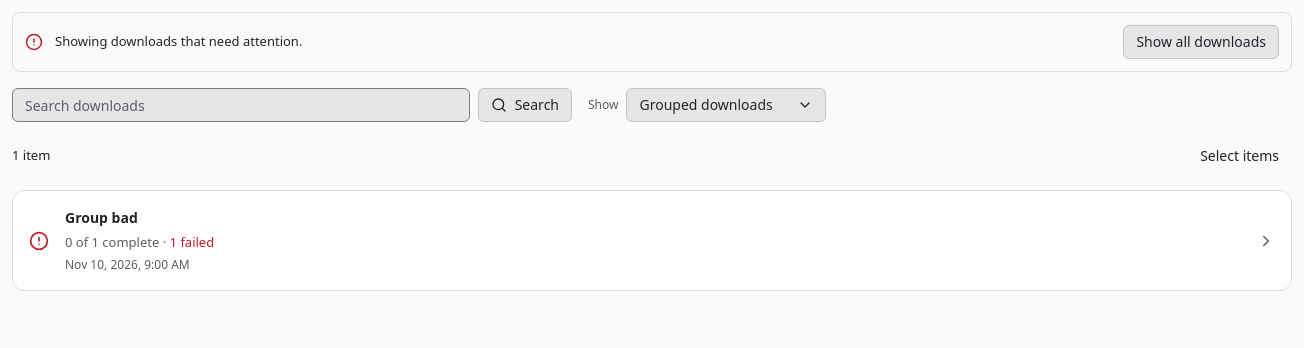
it: shows only downloads needing attention when asked, until the user shows all
Check: the text "Group ok" is not shown
What coordinates should you click on to do the following:
click the button "Show all downloads"
I would click on:
 (1201, 42)
Its box is [1123,25,1279,59].
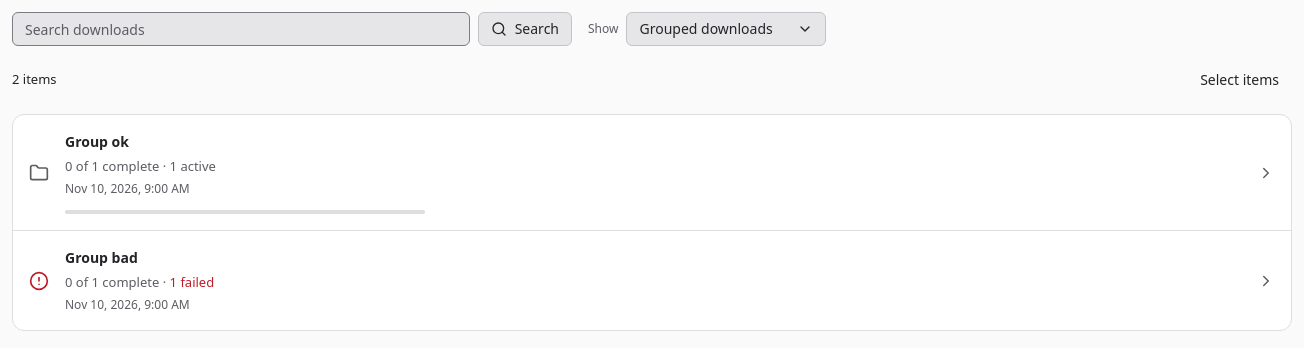
Check: the text "Group ok" is shown, box [65,132,129,151]
